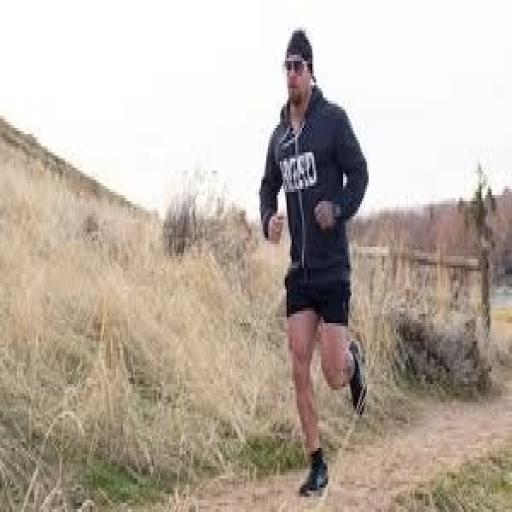running: (256, 24, 372, 503)
